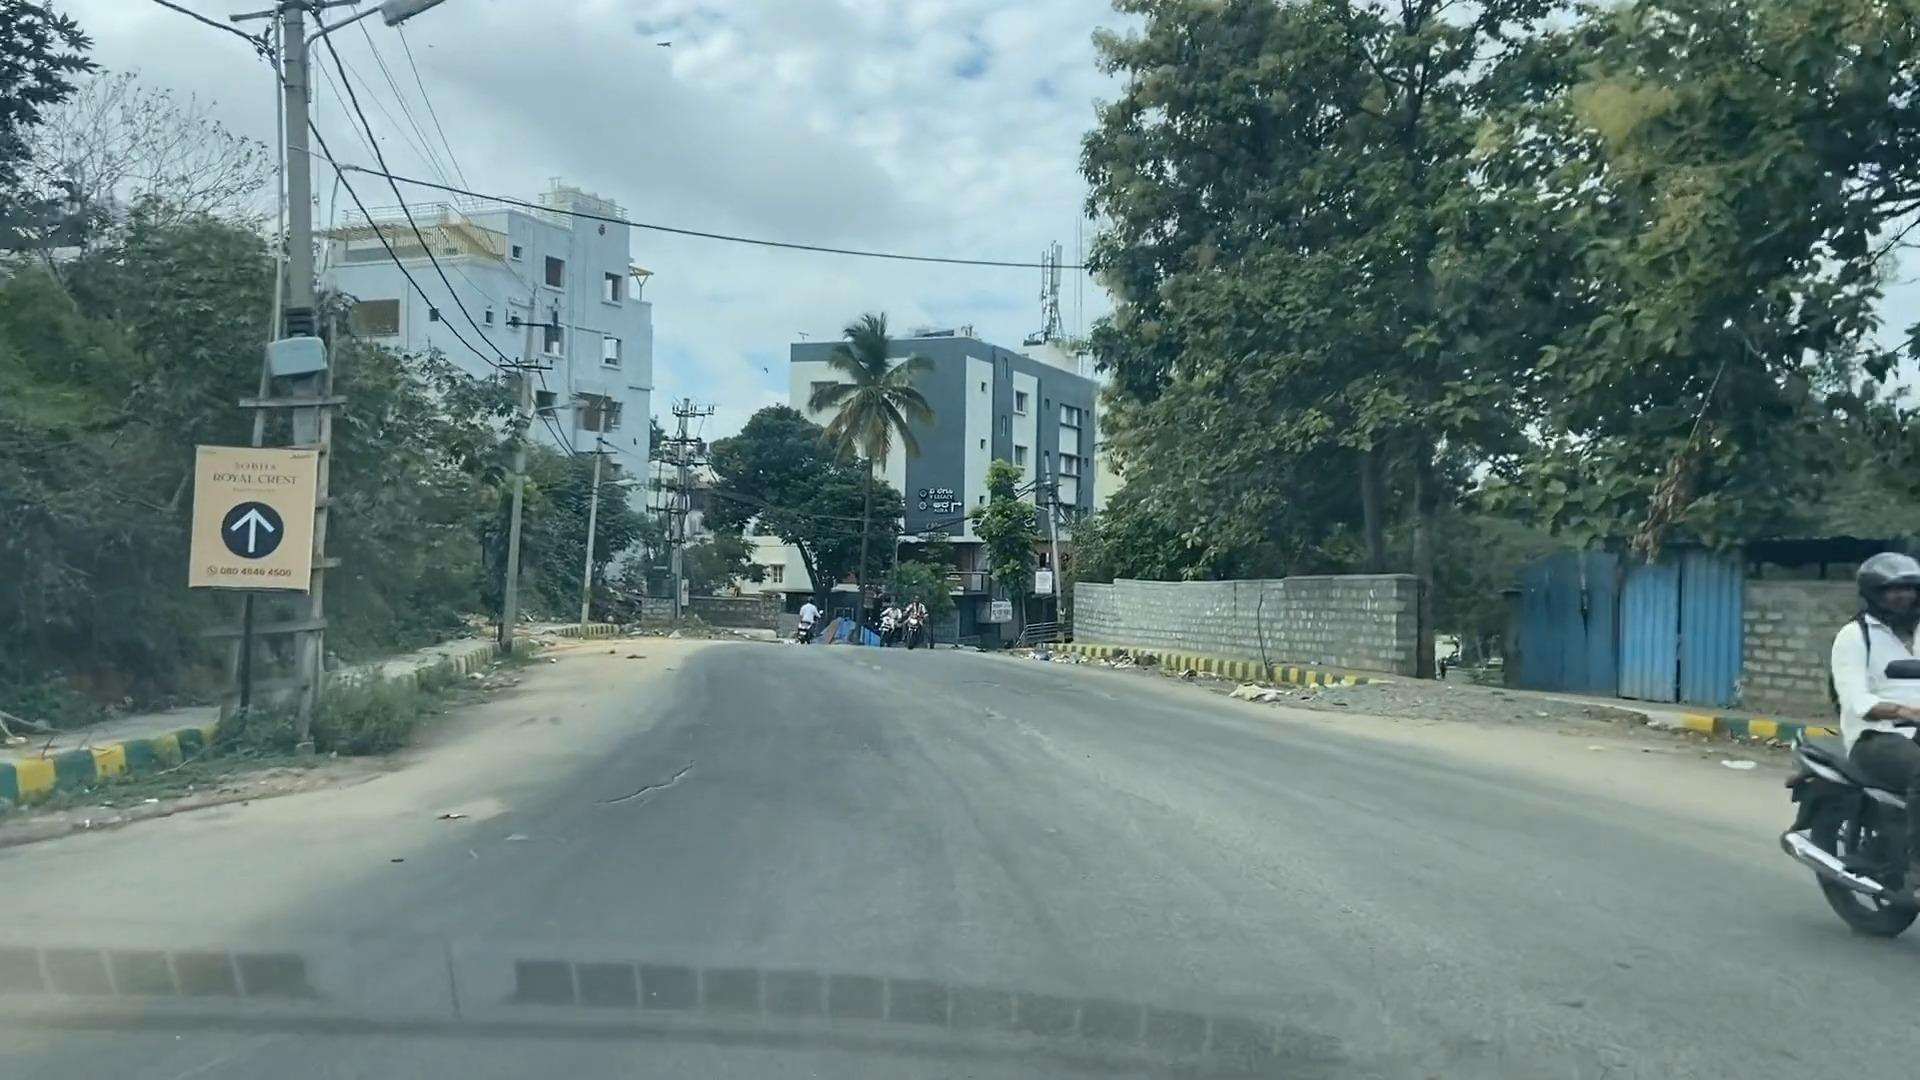RoadDamages: (322, 749, 828, 874)
